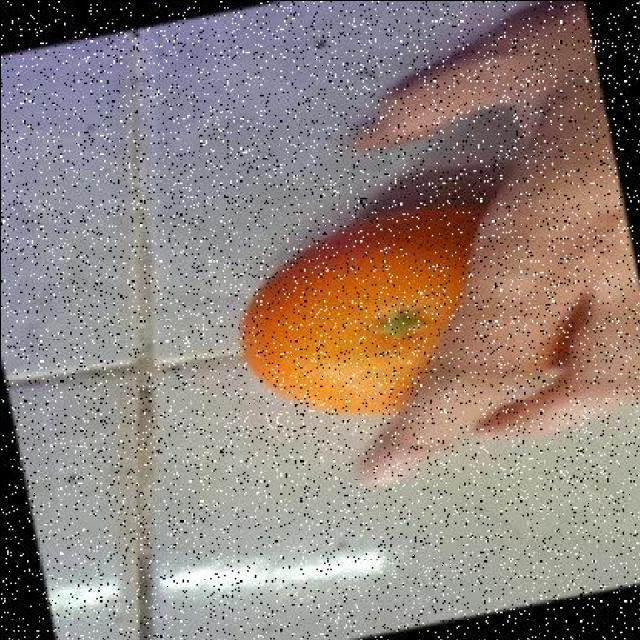Orange: (240, 202, 478, 418)
